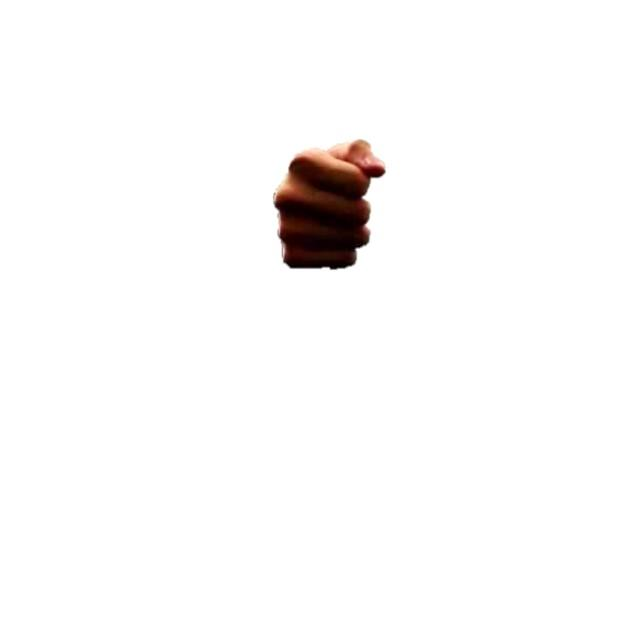gu-: (270, 138, 388, 271)
